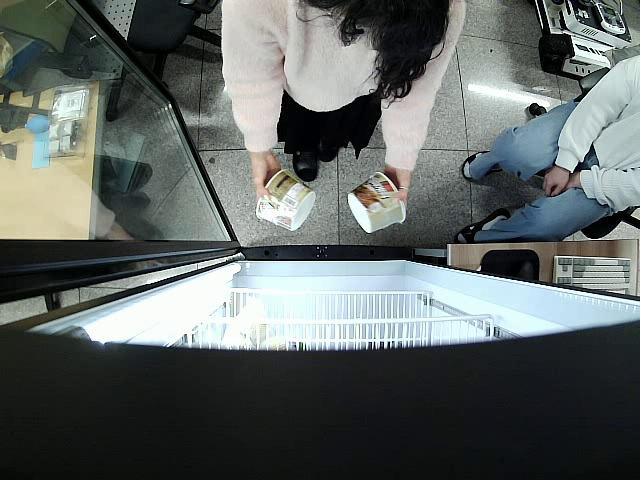00_hand: (252, 152, 282, 202), (381, 163, 411, 209)
03_chapagetti_L: (257, 168, 316, 232), (349, 171, 406, 235)
